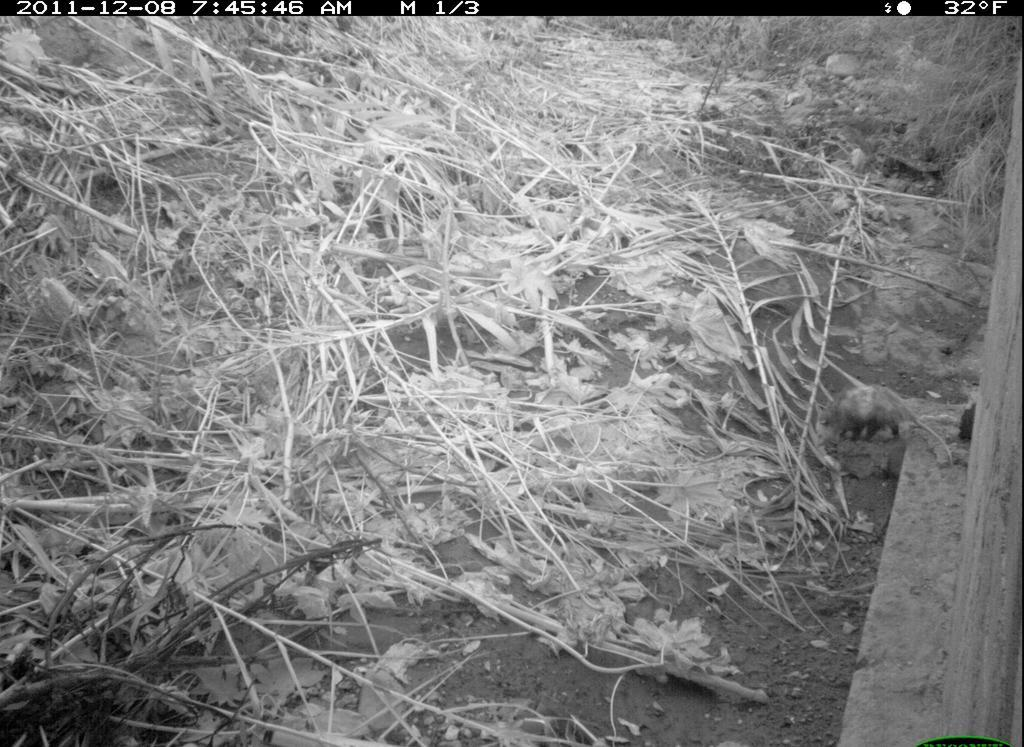opossum: (816, 381, 950, 473)
